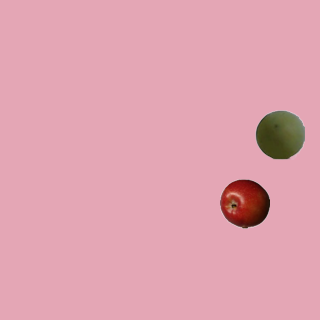Apple Braeburn: (219, 178, 269, 228)
Grape White 4: (254, 109, 304, 159)
